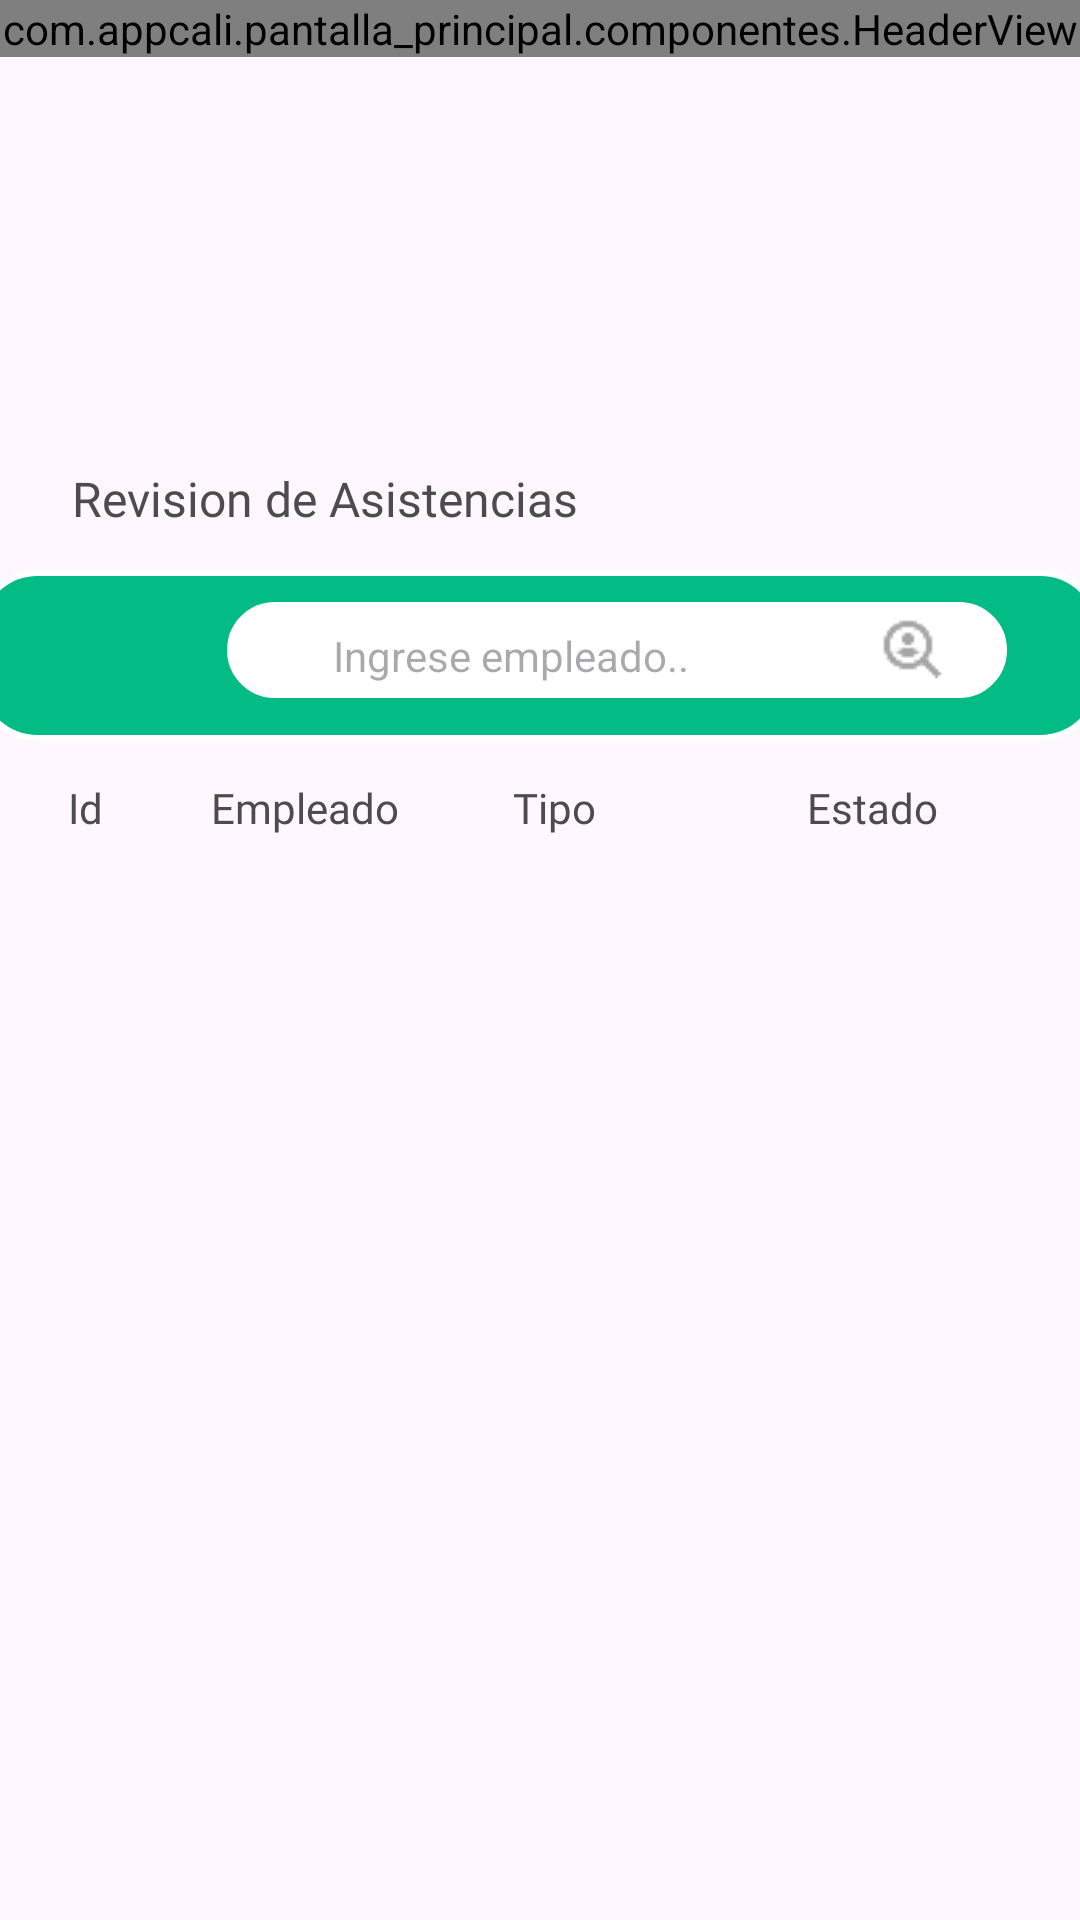

Screen size 1080w x 1920h. Icon name, then its center in pixels as (x=x, y=y):
lupa: (x=911, y=650)
